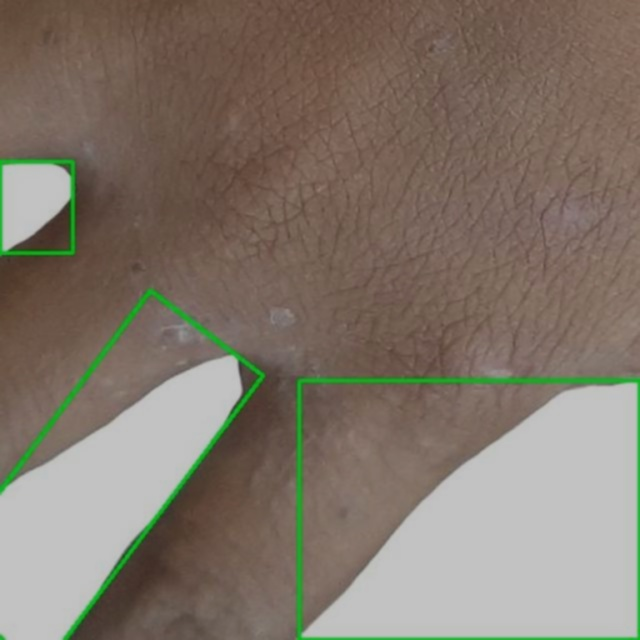Scabies: (0, 291, 263, 639), (299, 380, 639, 639), (0, 161, 73, 252)
